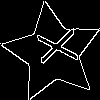X: (27, 27, 78, 68)
